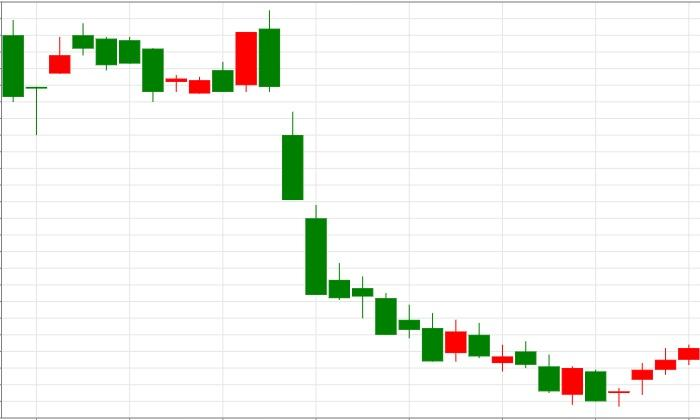three_black_crows_fall: (165, 9, 326, 295)
